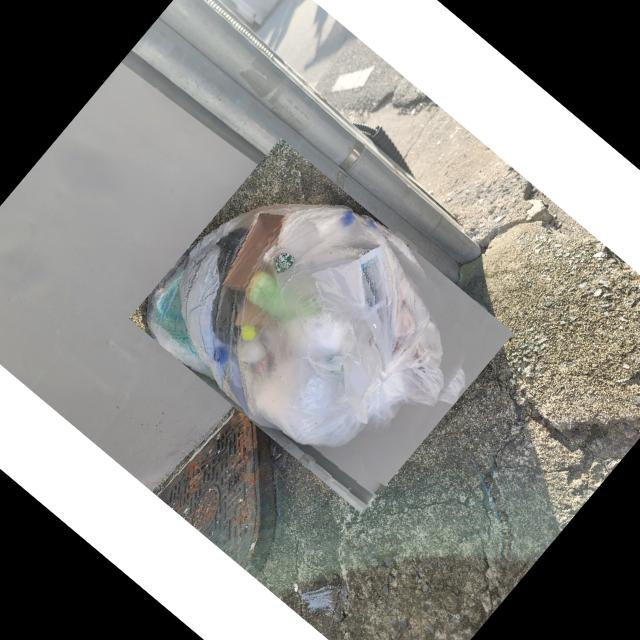other_trashbag: (147, 204, 448, 443)
